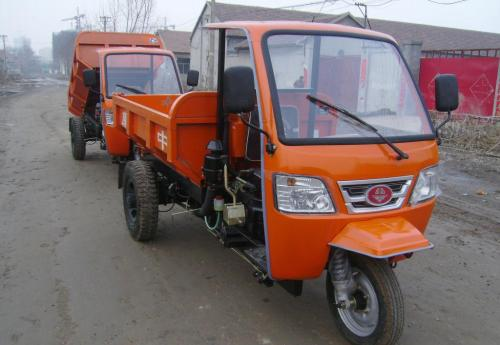tricycle: (106, 8, 448, 345)
